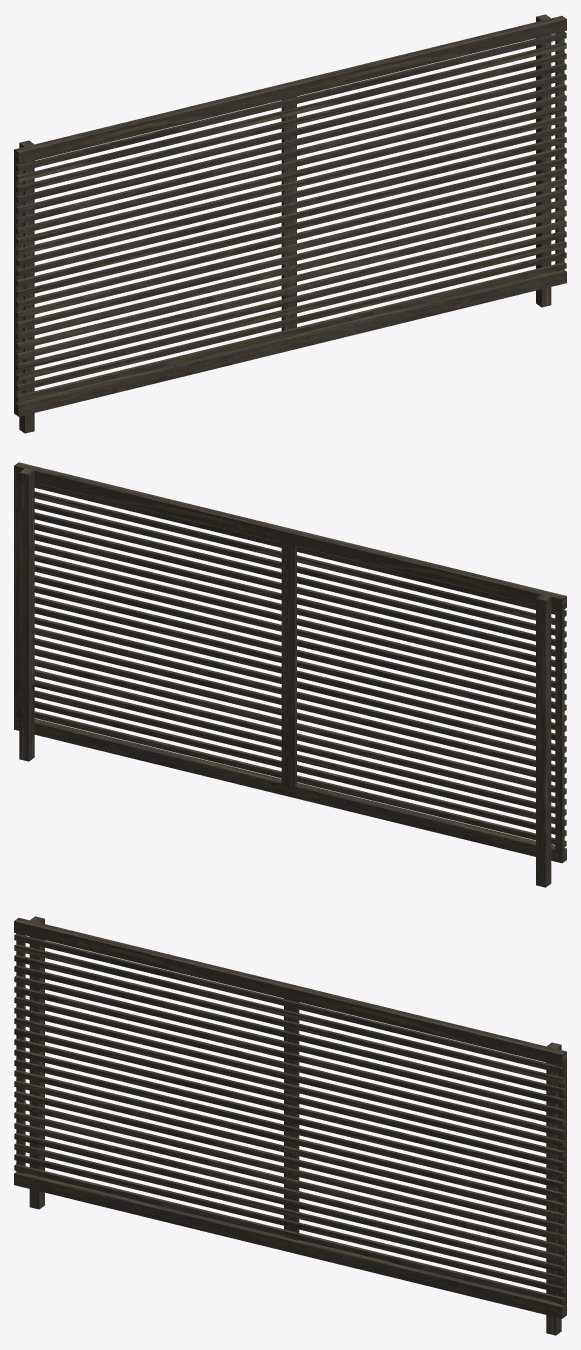
Rendered from EAFsudarehosogoushi_w1998-h920_blackebony.fbx.
3 renders of one model, top to bottom at view 1: azimuth 30°, elevation 25°; view 2: azimuth 150°, elevation 25°; view 3: azimuth 330°, elevation 25°, orthographic.
Parts seen in each view (by area): view 1: EAFsudarehosogoushi_w1998-h920_blackebony; view 2: EAFsudarehosogoushi_w1998-h920_blackebony; view 3: EAFsudarehosogoushi_w1998-h920_blackebony.
Part boxes in pixels (<box>): EAFsudarehosogoushi_w1998-h920_blackebony: <box>14,14,566,433</box>; EAFsudarehosogoushi_w1998-h920_blackebony: <box>14,462,566,887</box>; EAFsudarehosogoushi_w1998-h920_blackebony: <box>14,916,566,1335</box>.
Size of the model in its own units: 200 by 100 by 6.5.
Materials: 1 (1 with a texture image).
